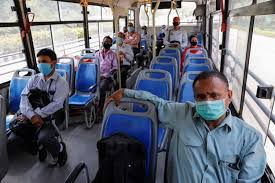mask: (193, 77, 229, 121), (37, 53, 55, 75), (101, 37, 112, 49), (116, 32, 125, 45), (190, 36, 199, 46), (172, 17, 180, 28), (127, 22, 135, 31), (141, 26, 148, 35)
